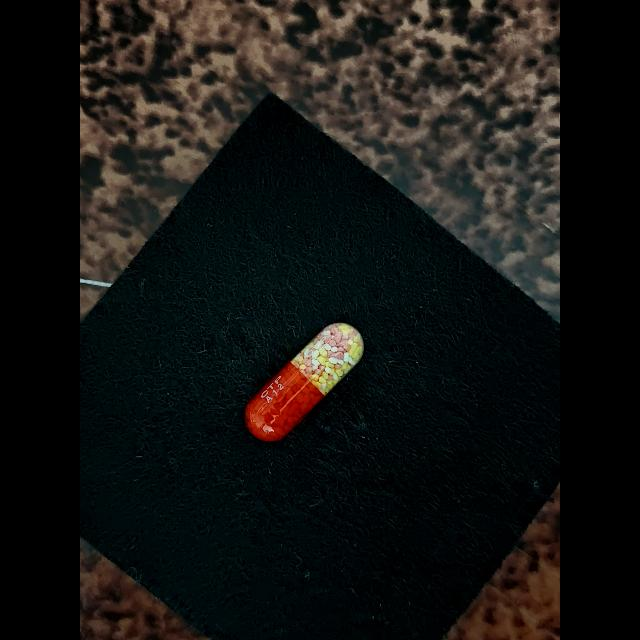Intact Capsule: (245, 322, 364, 441)
